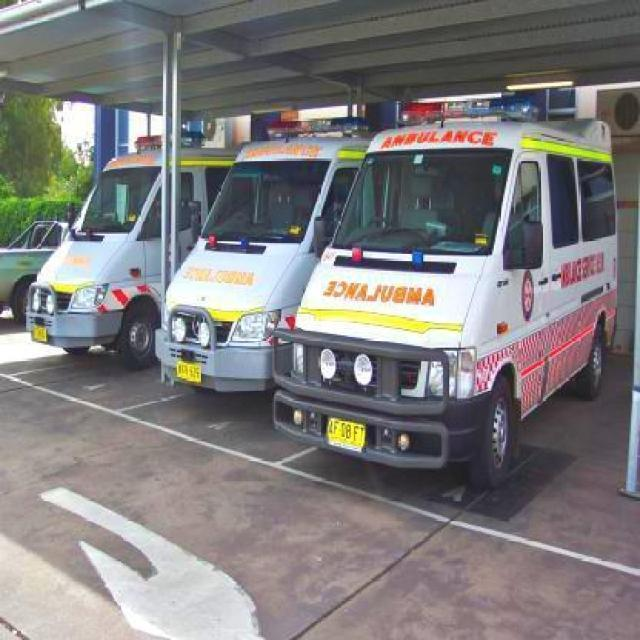emergency: (268, 111, 620, 489), (154, 130, 374, 394), (24, 133, 240, 369)
